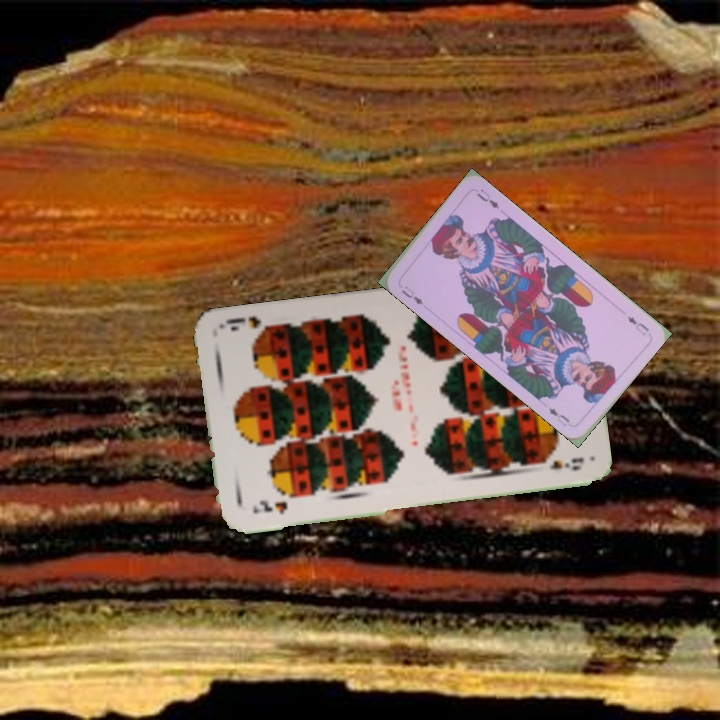EU: (397, 281, 426, 307), (623, 312, 652, 338)
S9: (249, 496, 290, 517)
